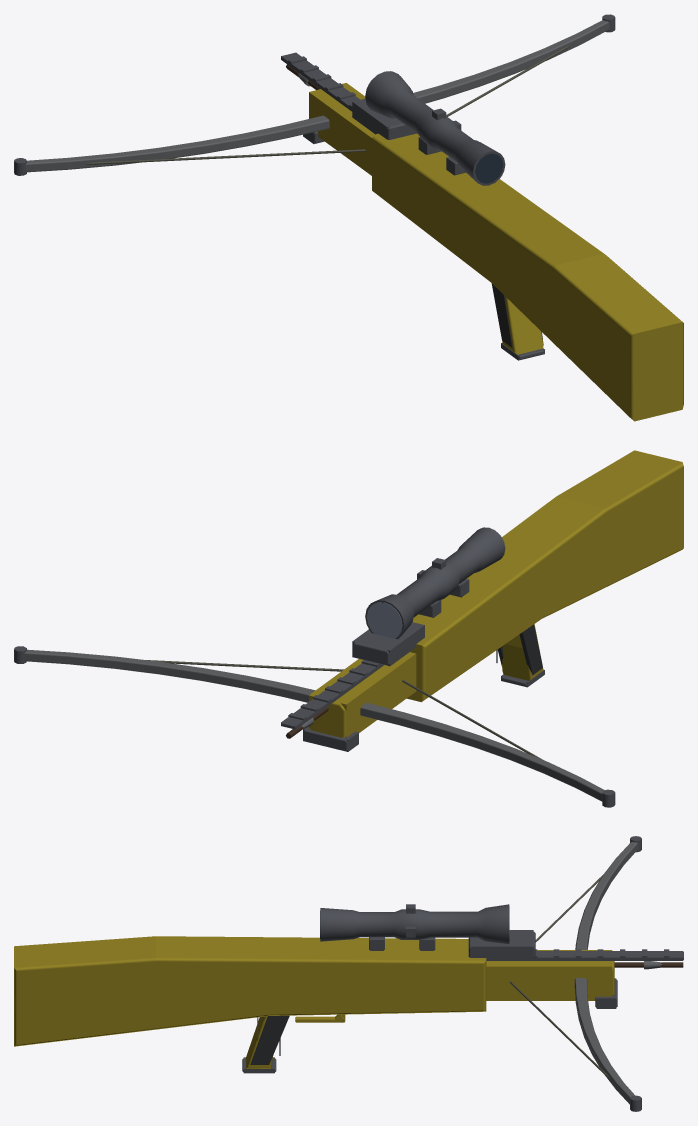
File: bw_heavybolt.glb
3 renders of one model, top to bottom at view 1: azimuth 30°, elevation 25°; view 2: azimuth 150°, elevation 25°; view 3: azimuth 270°, elevation 25°, orthographic. The views are drawn at different scales.
Parts seen in each view (by area): view 1: L0, L1; view 2: L0, L1; view 3: L0, L1.
Part boxes in pixels (x1=…): L0: x1=14, y1=14, x2=683, y2=421; L1: x1=14, y1=15, x2=615, y2=360; L0: x1=14, y1=450, x2=683, y2=807; L1: x1=14, y1=527, x2=615, y2=807; L0: x1=14, y1=836, x2=683, y2=1111; L1: x1=243, y1=836, x2=683, y2=1111.
Bounding box in the file's own units: 0.795 × 0.226 × 0.851.
